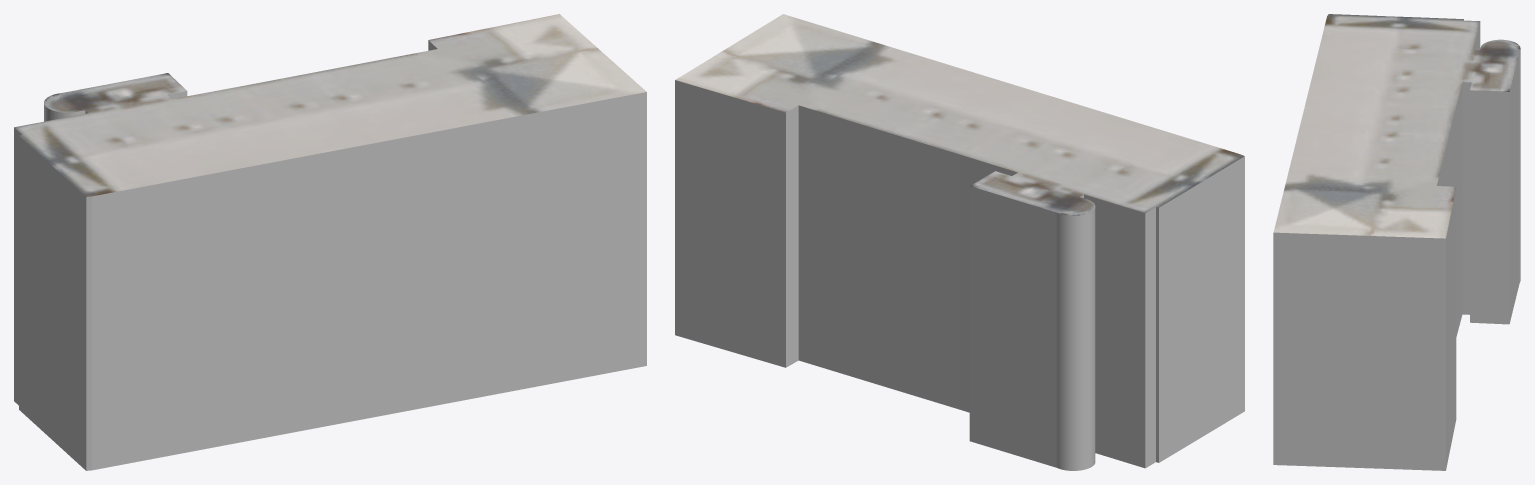
The model's file is DEBW_0010007Tx7o.gltf.
3 views of the same model, side by side, from view 1: azimuth 30°, elevation 25°; view 2: azimuth 150°, elevation 25°; view 3: azimuth 270°, elevation 25° (orthographic). The views are drawn at different scales.
Parts seen in each view (by area): view 1: Z_UP; view 2: Z_UP; view 3: Z_UP.
Part boxes in pixels (bbox=[...]): Z_UP: bbox=[14, 14, 646, 470]; Z_UP: bbox=[675, 14, 1244, 470]; Z_UP: bbox=[1273, 14, 1520, 470].
Bounding box in the file's own units: 37.65 × 18.17 × 17.5.
Materials: 2 (1 with a texture image).
